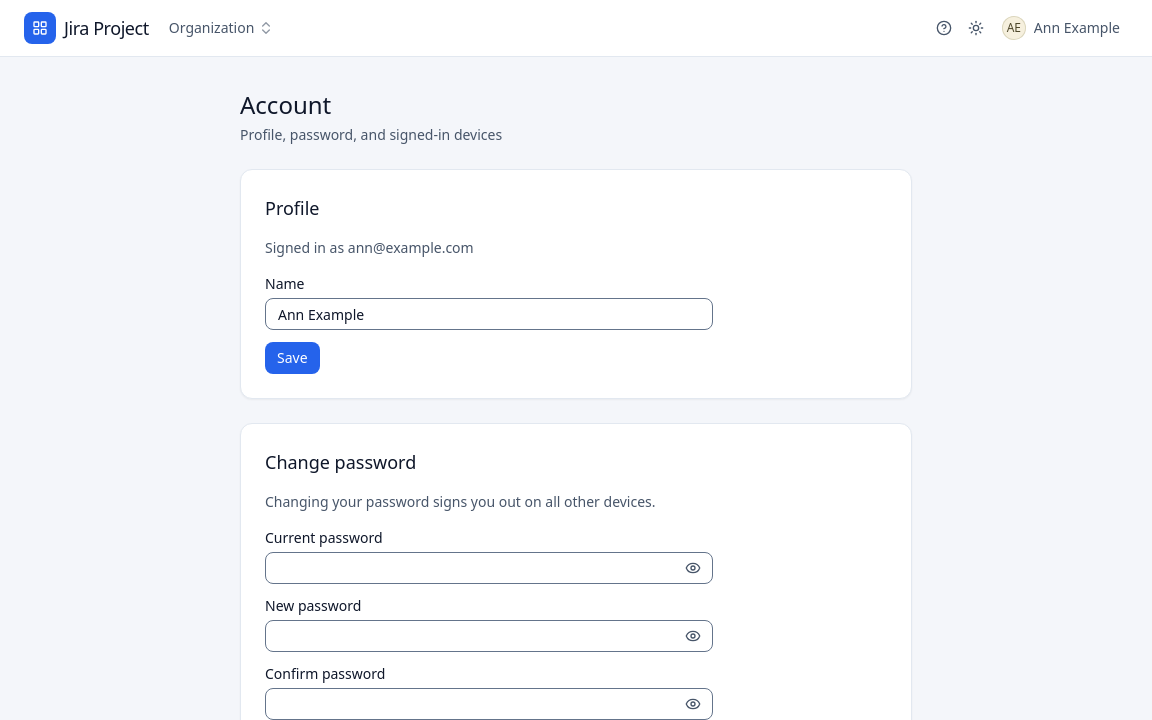
Test: theme picker in the account menu › lists every theme and marks the current one
This screenshot has width=1152, height=720.
What coordinates should you click on to do the following:
click the button named "Open account menu"
I would click on:
 (1061, 28)
Its box is left=994, top=14, right=1128, bottom=42.
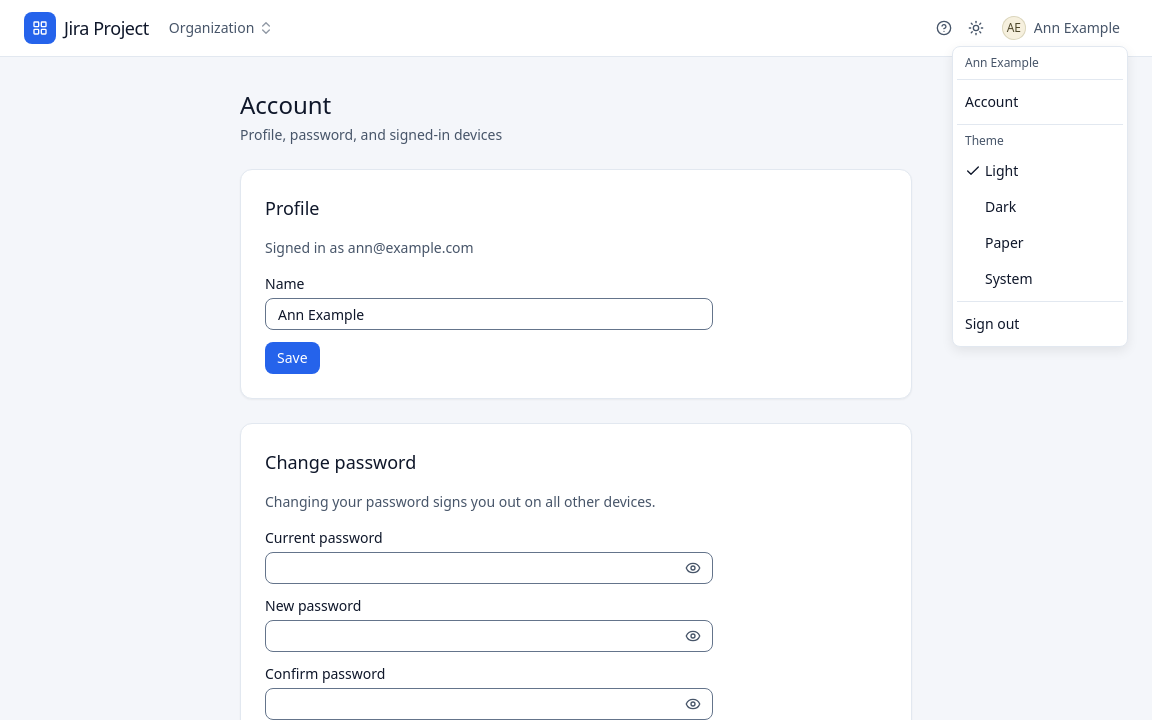
Expected: the menu item "Light" is checked, left=965, top=161, right=1018, bottom=180
Expected: the menu item "Dark" is not checked, left=985, top=197, right=1016, bottom=216
Expected: the menu item "Paper" is not checked, left=985, top=233, right=1024, bottom=252
